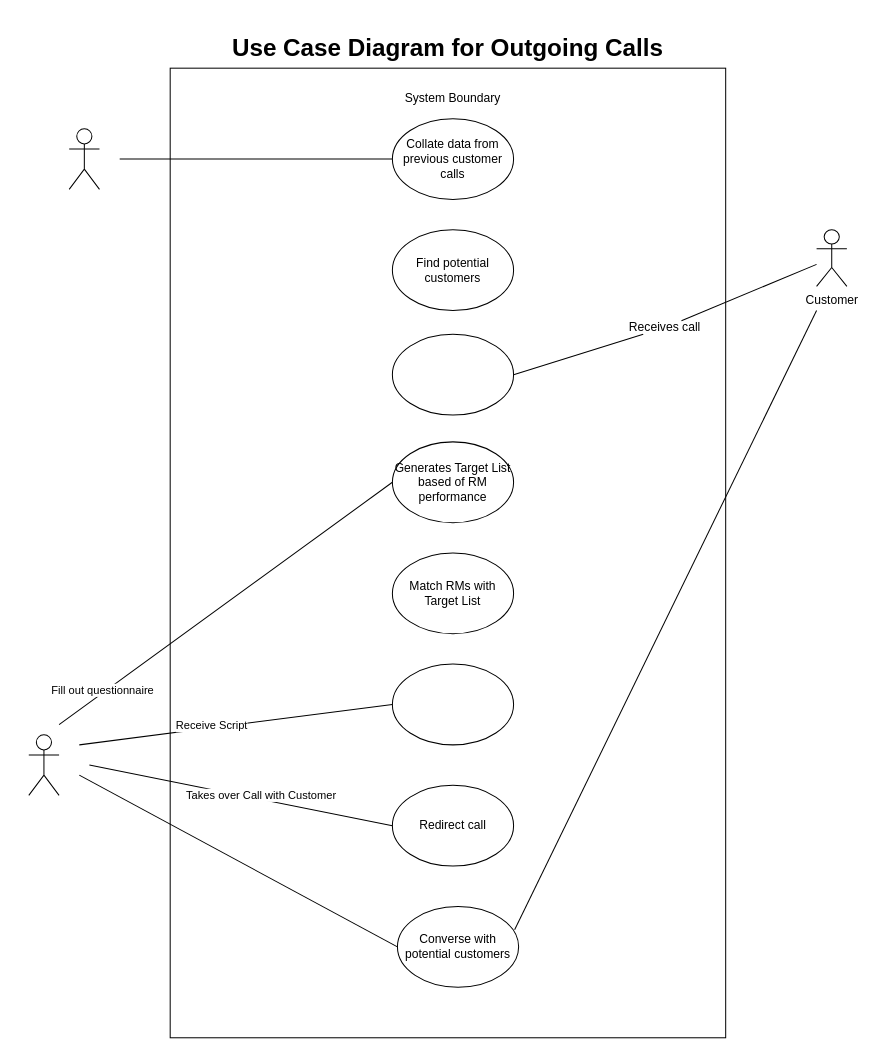
This 876x1055 diagram has some shape labels left out. The shapes that lost their labels are listed below. From the top down, each one's centre as x and y in pixels, then its label:
the point at 83,158: Database
the point at 452,374: Call potential customers
the point at 452,704: Generate guidelines and script for RMs
the point at 43,764: Employee
